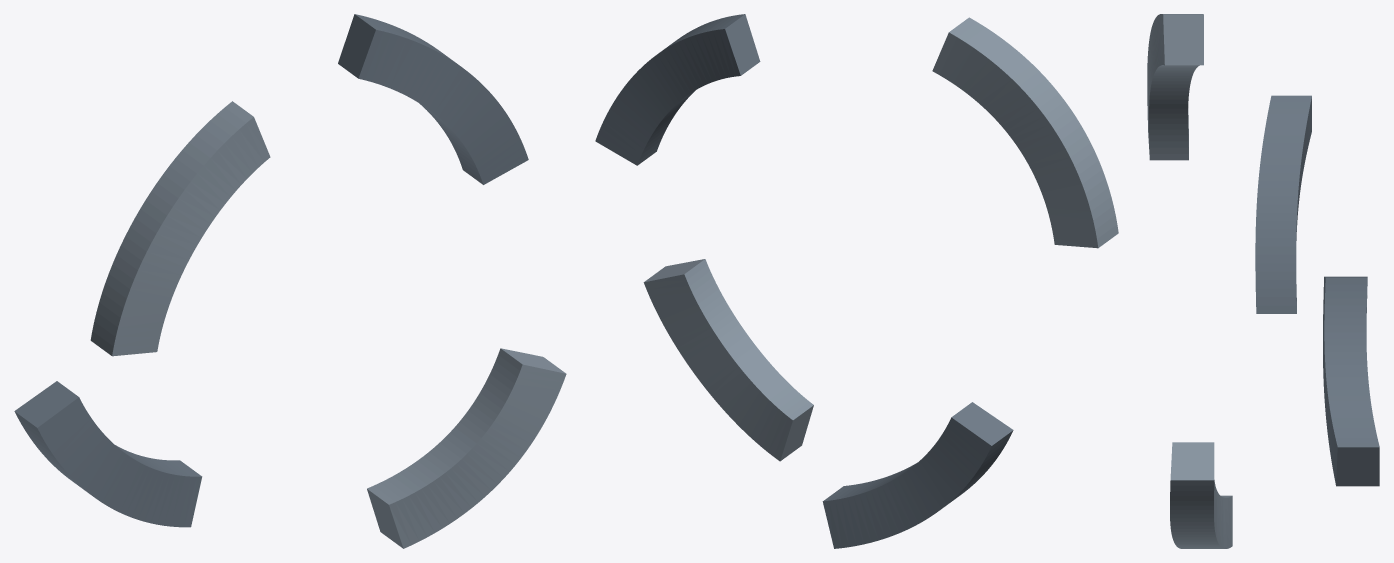
Rendered from ev_core_r10dp_inner_collar.glb.
3 views of the same model, side by side, from view 1: azimuth 30°, elevation 25°; view 2: azimuth 150°, elevation 25°; view 3: azimuth 270°, elevation 25° (orthographic). The views are drawn at different scales.
Parts seen in each view (by area): view 1: inner_0, inner_3, inner_1, inner_2; view 2: inner_0, inner_3, inner_2, inner_1; view 3: inner_2, inner_1, inner_0, inner_3.
Boxes of the visible parts, x1,y1,x2,y2 form: inner_0: [90, 101, 270, 356]; inner_3: [367, 348, 566, 548]; inner_1: [338, 14, 528, 184]; inner_2: [14, 381, 202, 527]; inner_0: [932, 17, 1118, 248]; inner_3: [643, 259, 813, 461]; inner_2: [822, 402, 1013, 548]; inner_1: [595, 14, 760, 165]; inner_2: [1323, 276, 1379, 486]; inner_1: [1255, 95, 1311, 313]; inner_0: [1147, 14, 1203, 160]; inner_3: [1170, 442, 1232, 548].
Size of the model in its own units: 173 by 169 by 77.38.
